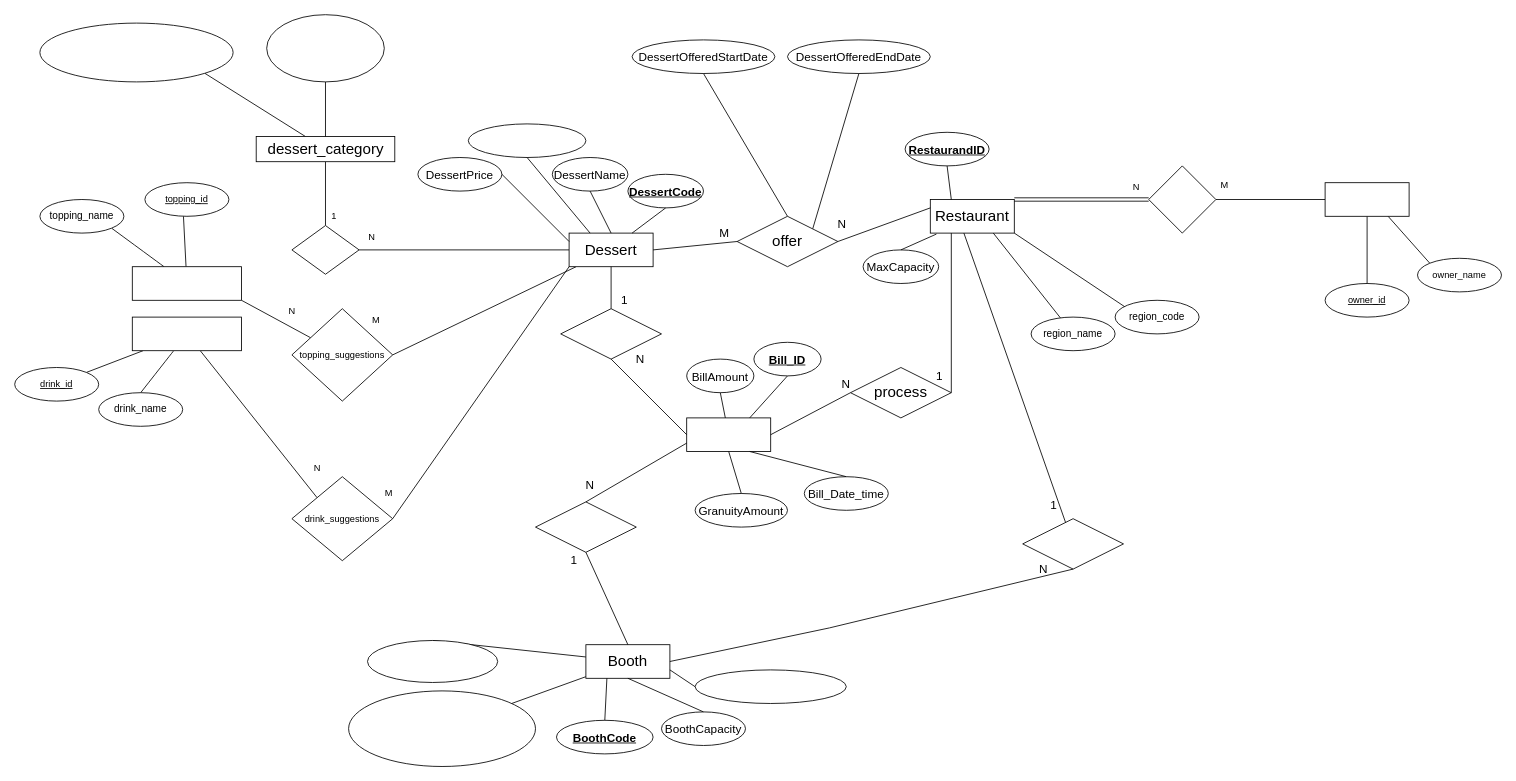
Some shapes in this 1516 by 781 pixel diagram are drawn without their labels. Each missing label, with the centre of its shape:
Bill: point 728,434
Booth_type_code: point 442,728
BoothTypeText: point 432,661
contains_1: point 611,333
contains_2: point 1073,543
dessert_category_id: point 325,48
dessert_category_name: point 136,52
DessertDescription: point 526,140
drink: point 186,333
generate: point 585,526
involved_in: point 325,249
owner: point 1366,199
owns: point 1182,199
SmokingSectionIndicator: point 770,686
topping: point 186,283
